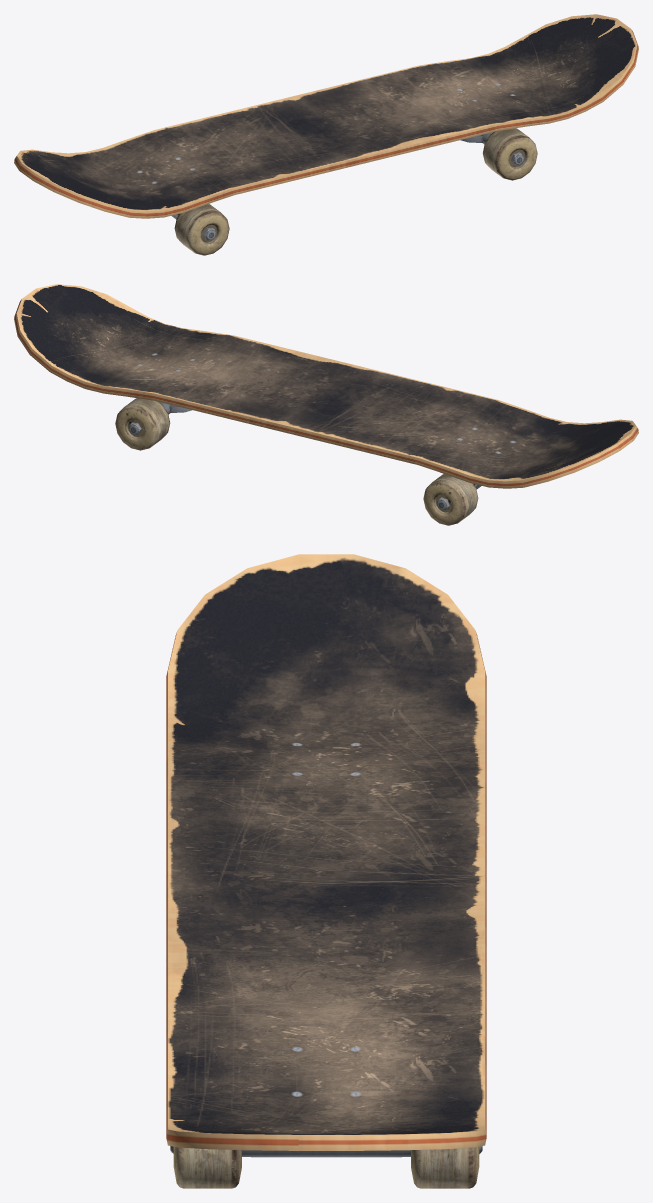
Rendered from Skateboard.fbx.
3 views of the same model, one above another, from view 1: azimuth 30°, elevation 25°; view 2: azimuth 150°, elevation 25°; view 3: azimuth 270°, elevation 25° (orthographic). The views are drawn at different scales.
Parts seen in each view (by area): view 1: FingerSkateboard, Wheels; view 2: FingerSkateboard, Wheels; view 3: FingerSkateboard, Wheels.
Part boxes in pixels (x1=…): FingerSkateboard: x1=14, y1=14, x2=638, y2=240; Wheels: x1=174, y1=128, x2=537, y2=255; FingerSkateboard: x1=14, y1=284, x2=638, y2=510; Wheels: x1=115, y1=398, x2=478, y2=525; FingerSkateboard: x1=166, y1=554, x2=486, y2=1157; Wheels: x1=173, y1=1146, x2=479, y2=1188.
Size of the model in its own units: 142 by 21.38 by 32.86.
